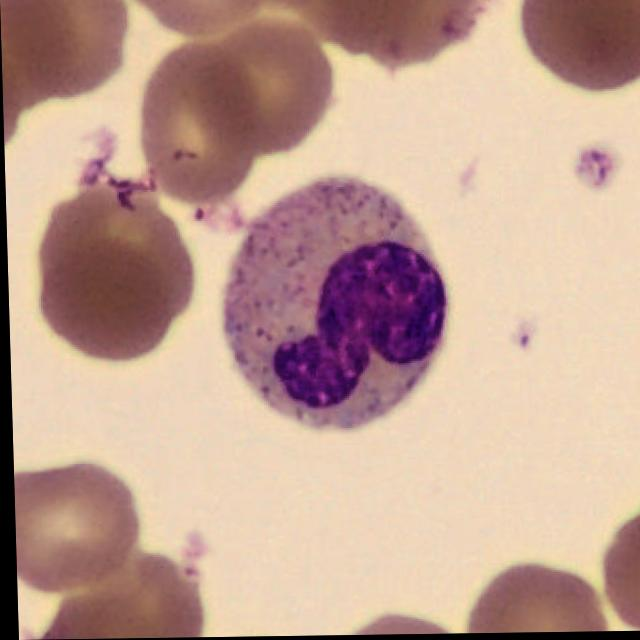Bastonete: (220, 179, 446, 430)
